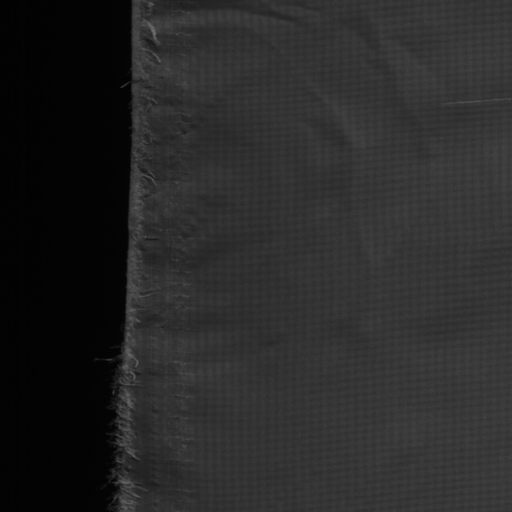defect: (436, 93, 512, 120)
